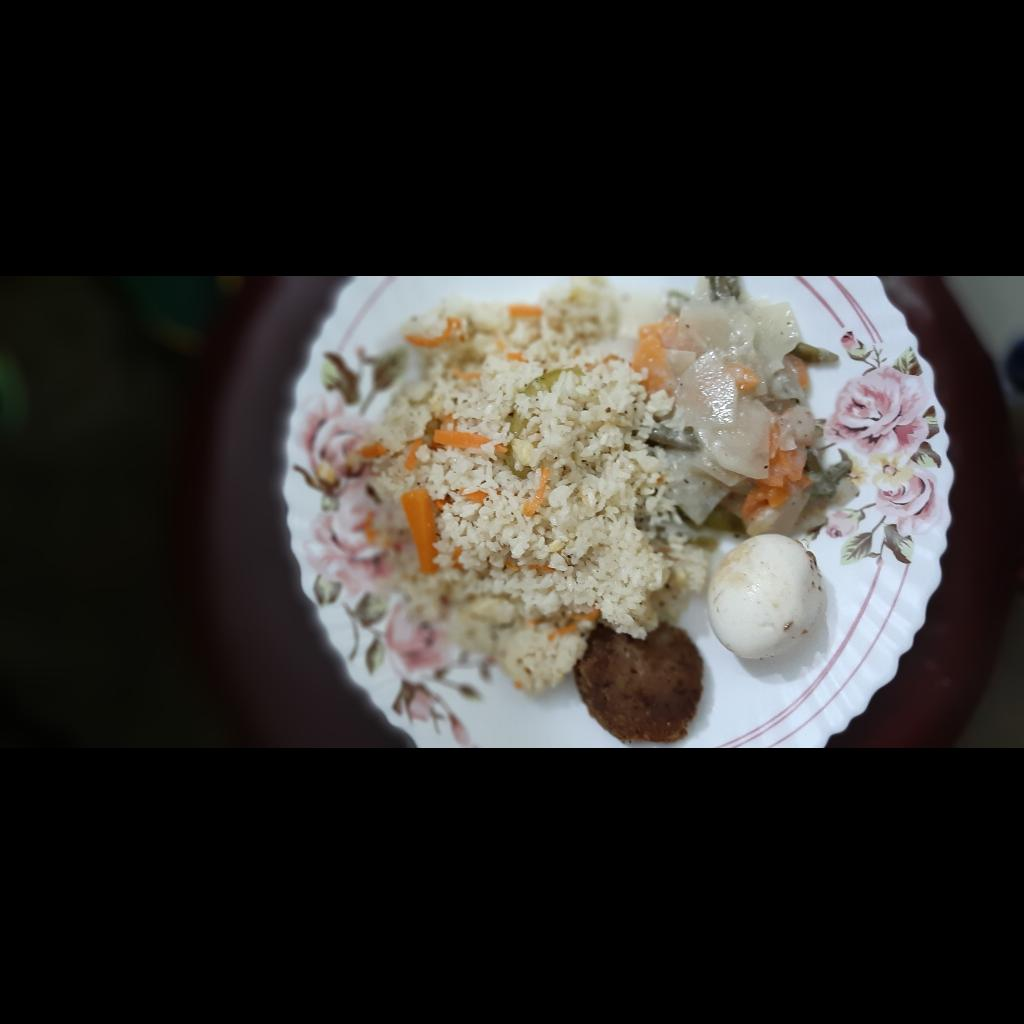beef: (1, 848, 128, 973)
egg-boiled: (84, 981, 207, 1024)
rice: (53, 627, 472, 1003)
vegetable: (212, 902, 469, 1024)
